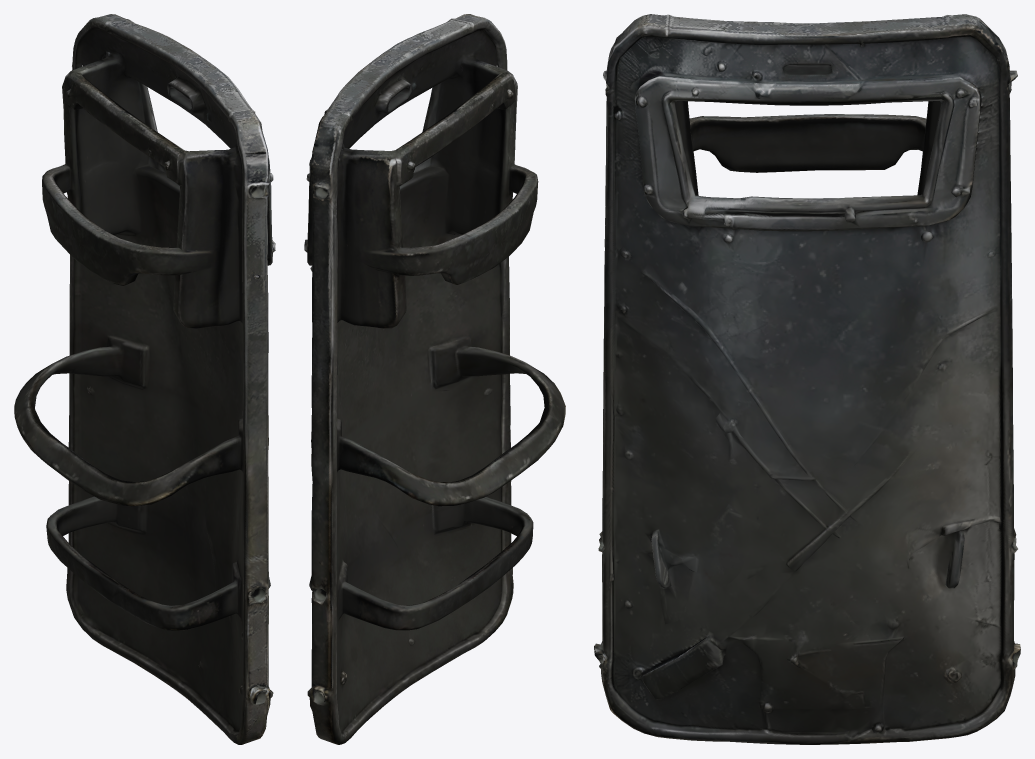
File: w_shield.glb
The picture shows the model from 3 angles, left to right: view 1: azimuth 30°, elevation 25°; view 2: azimuth 150°, elevation 25°; view 3: azimuth 270°, elevation 25°; orthographic projection. The views are drawn at different scales.
Visible parts, largest first — view 1: tripo_node_ebec8ac1-3357-43c1-a5c8-cc04fdbcf4c5; view 2: tripo_node_ebec8ac1-3357-43c1-a5c8-cc04fdbcf4c5; view 3: tripo_node_ebec8ac1-3357-43c1-a5c8-cc04fdbcf4c5.
Part boxes in pixels (x1,y1,x2,y2): tripo_node_ebec8ac1-3357-43c1-a5c8-cc04fdbcf4c5: (14,14,275,744); tripo_node_ebec8ac1-3357-43c1-a5c8-cc04fdbcf4c5: (304,14,565,744); tripo_node_ebec8ac1-3357-43c1-a5c8-cc04fdbcf4c5: (594,14,1020,744).
Size of the model in its own units: 0.2784 by 0.9796 by 0.5284.
Materials: 1 (1 with a texture image).
